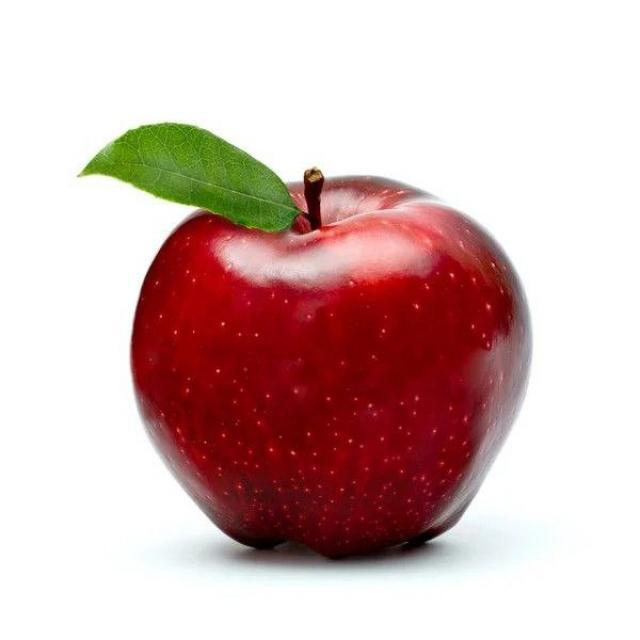Fresh Apple: (132, 172, 528, 562)
